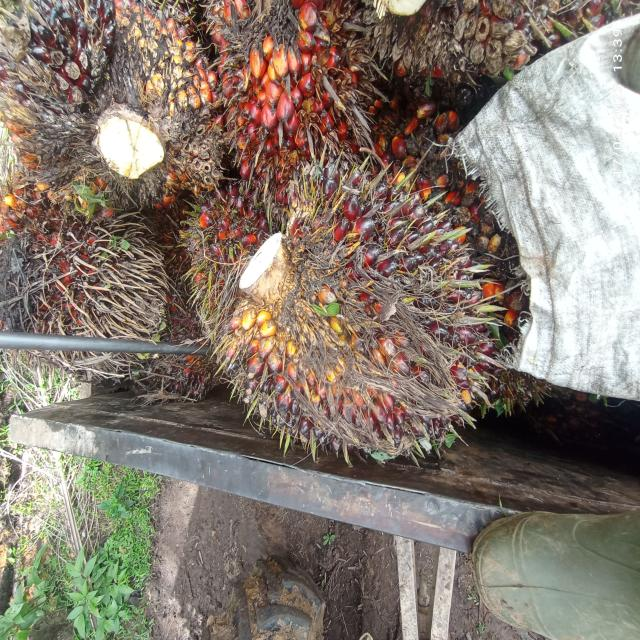fraksi 00: (3, 0, 116, 153)
fraksi 1: (215, 157, 484, 472)
fraksi 4: (0, 169, 167, 431), (187, 0, 355, 197)
